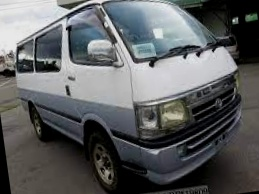van: (8, 0, 258, 194)
